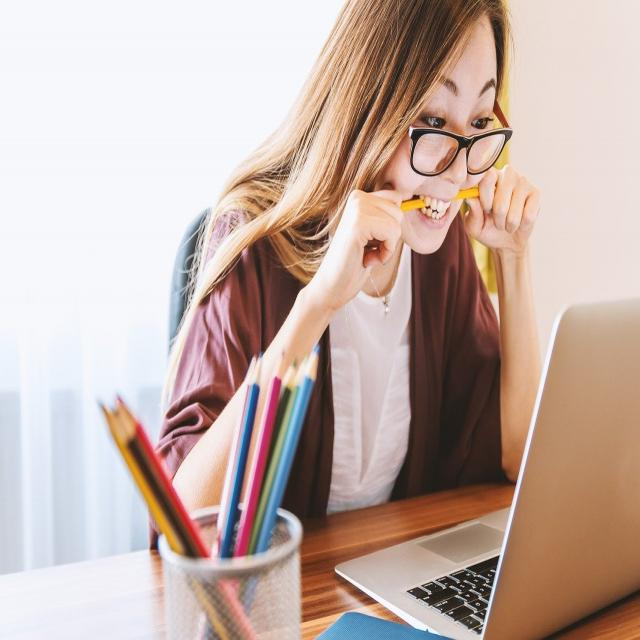face: (372, 31, 506, 254)
